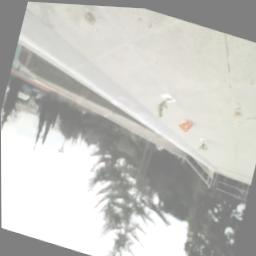herb: (155, 94, 172, 119), (196, 137, 211, 153)
wild: (177, 116, 196, 135)
